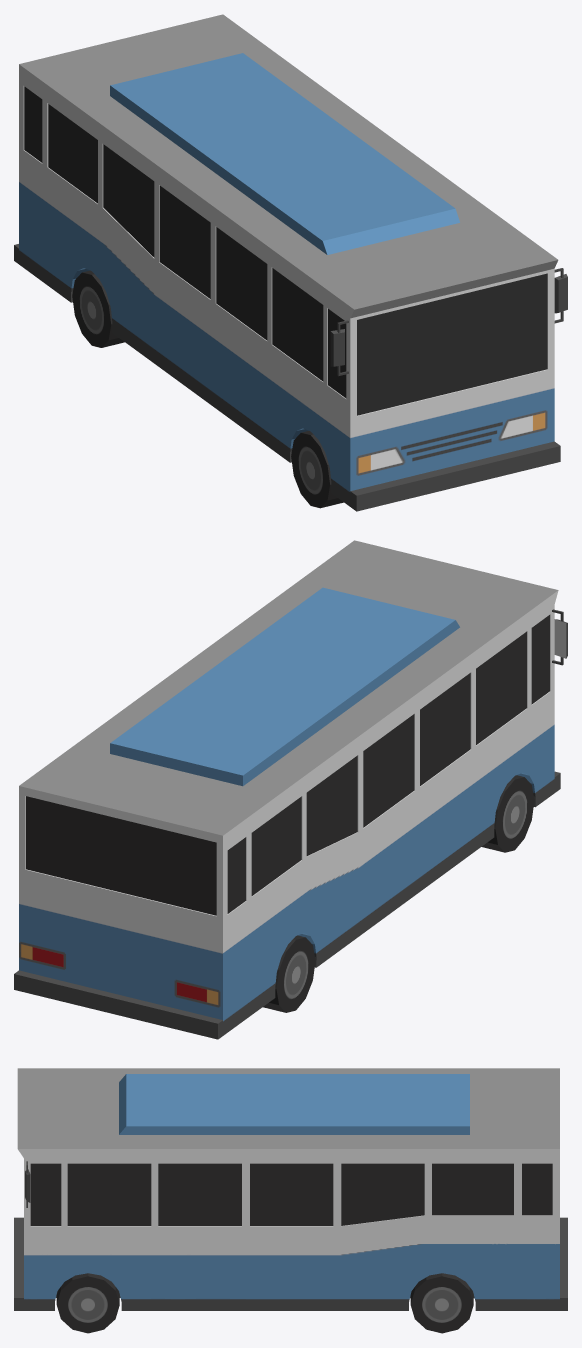
File: vehicle-bus-color01.glb
The picture shows the model from 3 angles, top to bottom: view 1: azimuth 30°, elevation 25°; view 2: azimuth 150°, elevation 25°; view 3: azimuth 270°, elevation 25°; orthographic projection. The views are drawn at different scales.
Visible parts, largest first — view 1: model; view 2: model; view 3: model.
Boxes of the visible parts, x1,y1,x2,y2 form: model: (14,14,567,511); model: (14,540,567,1039); model: (14,1068,567,1333).
Bounding box in the file's own units: 3.69 × 3.58 × 9.3.
1 material, 1 textured.
